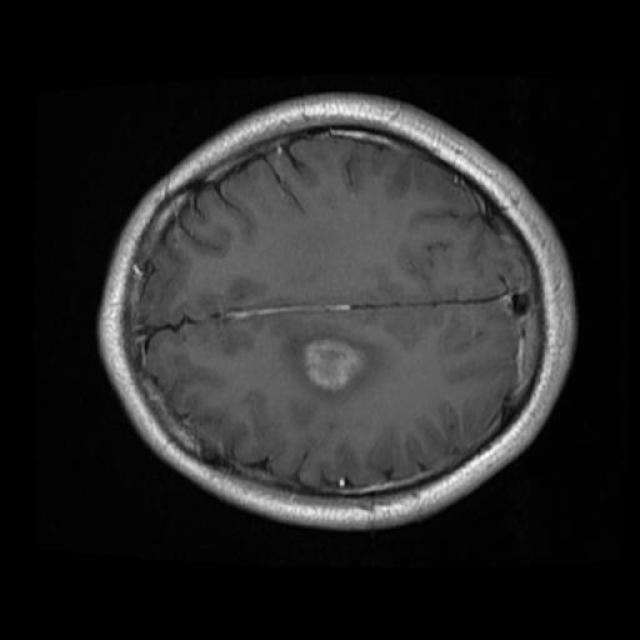Glioma: (305, 338, 363, 390)
